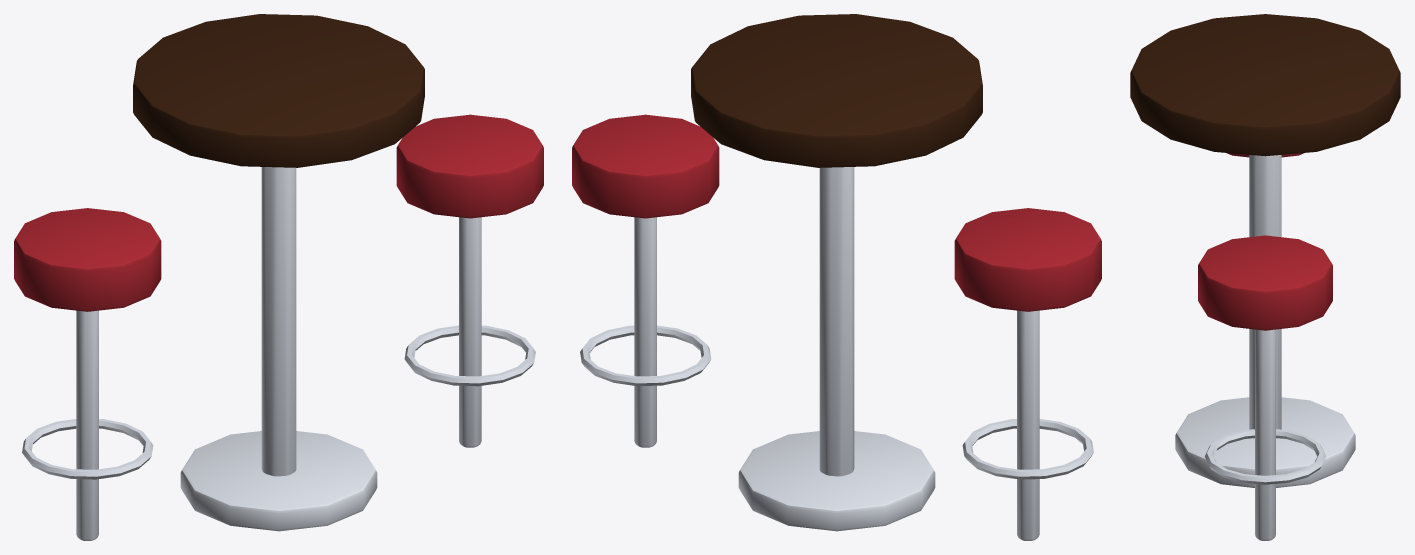
File: MidClub.fbx
The picture shows the model from 3 angles, left to right: view 1: azimuth 30°, elevation 25°; view 2: azimuth 150°, elevation 25°; view 3: azimuth 270°, elevation 25°; orthographic projection. The views are drawn at different scales.
Visible parts, largest first — view 1: MidClub; view 2: MidClub; view 3: MidClub.
Boxes of the visible parts, <box> form: MidClub: <box>14,14,543,540</box>; MidClub: <box>572,14,1101,540</box>; MidClub: <box>1130,14,1400,540</box>.
Size of the model in its own units: 480 by 375 by 240.
